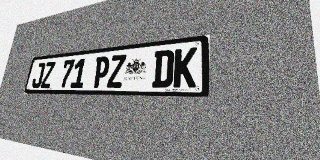1: (70, 58, 87, 88)
7: (58, 59, 75, 88)
D: (152, 49, 174, 88)
J: (31, 62, 46, 88)
K: (173, 47, 197, 87)
P: (92, 56, 111, 88)
Z: (107, 54, 126, 88), (40, 61, 56, 88)
